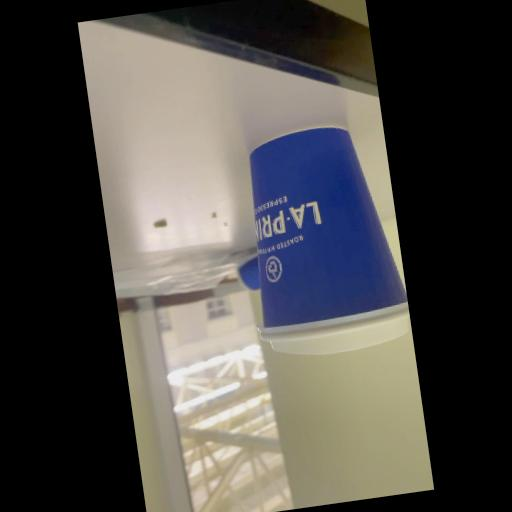lp_paper_cup: (201, 114, 417, 388)
